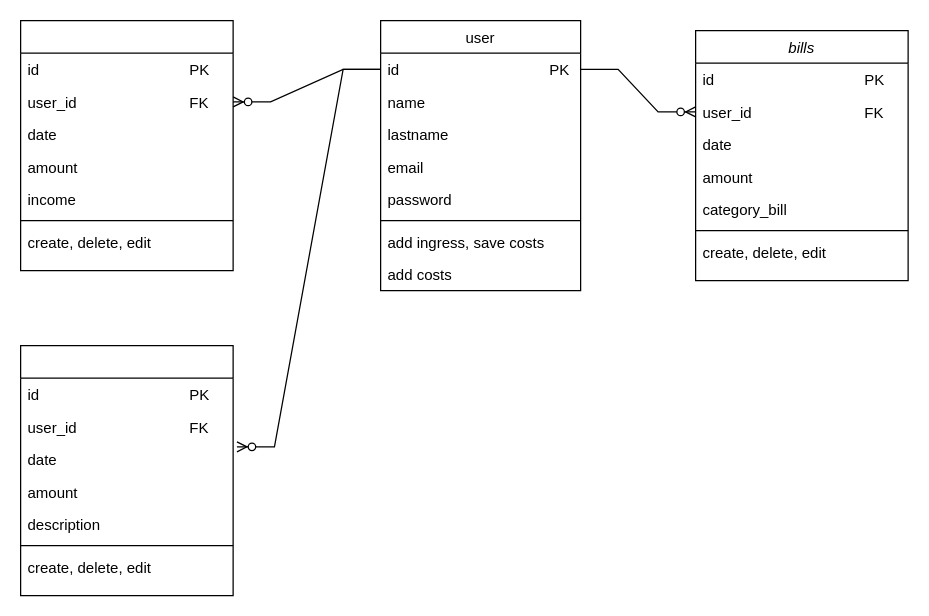
This 929x616 diagram has some shape labels left out. The shapes that lost their labels are listed below. From the top down, each one's box as (x1, y1, x2, y2) in pixels, then its label:
(19, 19, 233, 271): Ingress
(19, 344, 233, 596): save_cost
